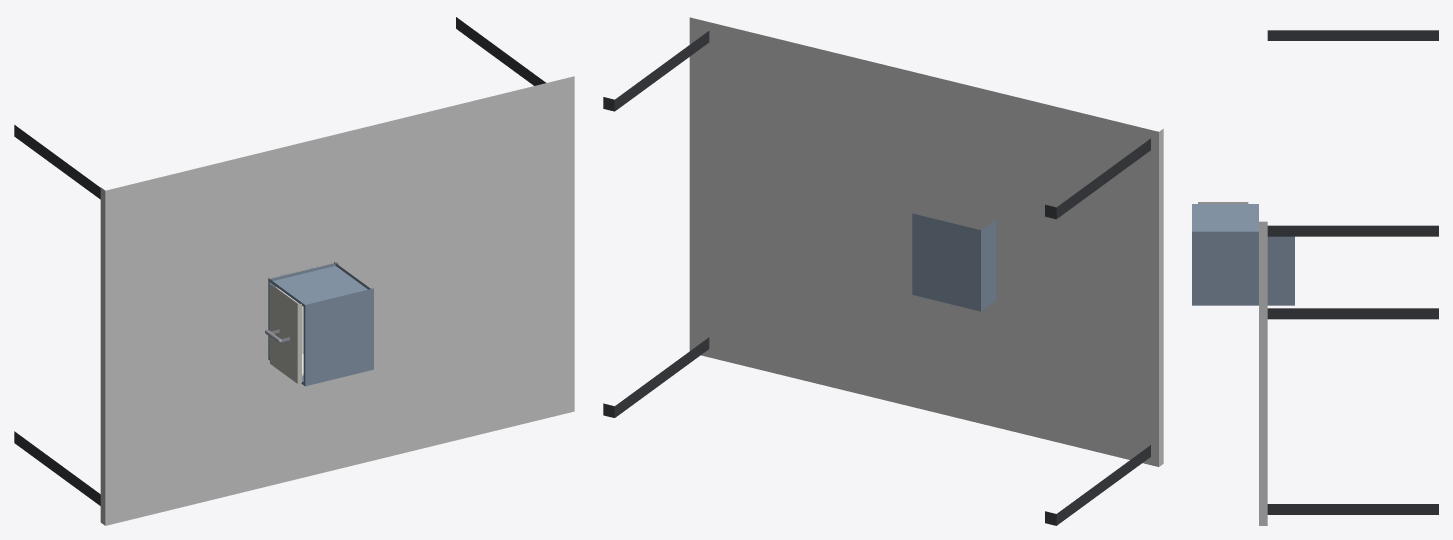
The picture shows the model from 3 angles, left to right: view 1: azimuth 30°, elevation 25°; view 2: azimuth 150°, elevation 25°; view 3: azimuth 270°, elevation 25°; orthographic projection. The views are drawn at different scales.
Visible parts, largest first — view 1: s0, s1, s2; view 2: s0, s1; view 3: s0, s1.
Boxes of the visible parts, x1,y1,x2,y2 form: s0: [14, 17, 574, 525]; s1: [268, 262, 373, 386]; s2: [265, 284, 303, 383]; s0: [603, 17, 1163, 525]; s1: [912, 213, 996, 311]; s0: [1259, 30, 1438, 525]; s1: [1192, 204, 1294, 305].
Size of the model in its own units: 2.05 by 1.4 by 1.03.
